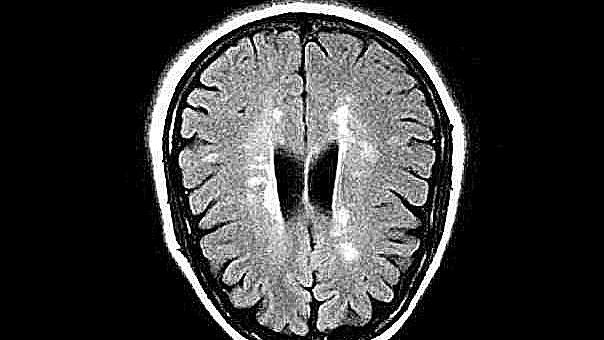Normal_Brain: (1, 3, 604, 340)
